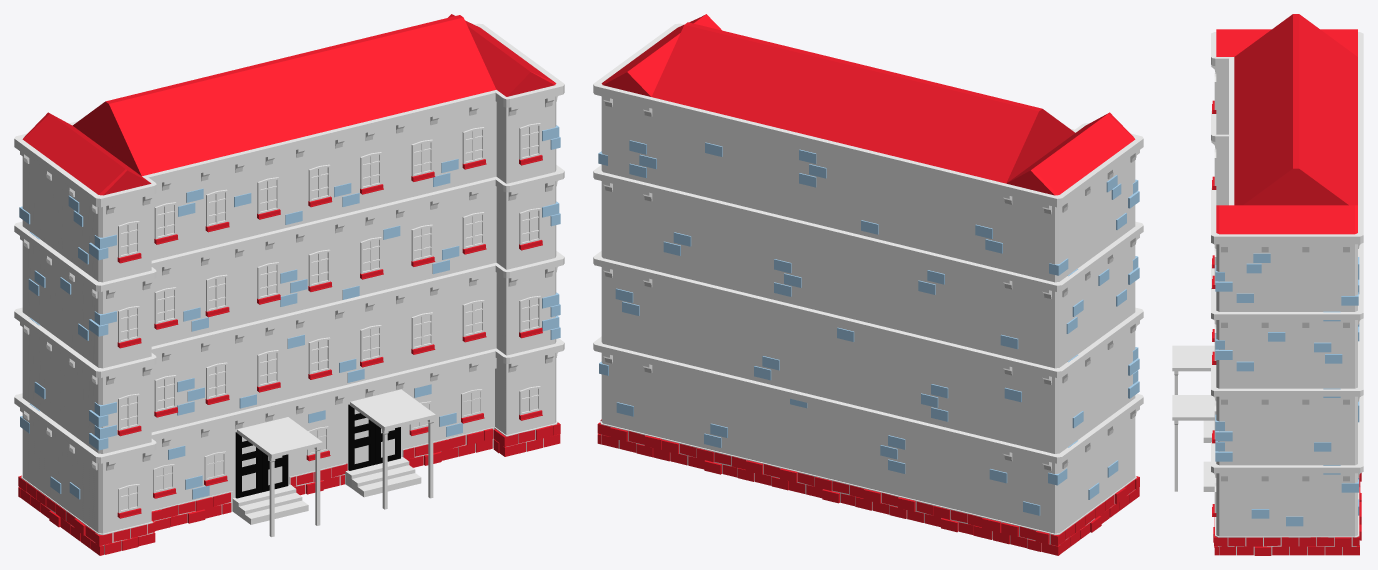
File: building_quaternius_4Story_Wide_2Doors_Roof.glb
3 renders of one model, left to right at view 1: azimuth 30°, elevation 25°; view 2: azimuth 150°, elevation 25°; view 3: azimuth 270°, elevation 25°, orthographic. The views are drawn at different scales.
Bounding box in the file's own units: 6.83 × 5.68 × 2.7.
1 material, 1 textured.
